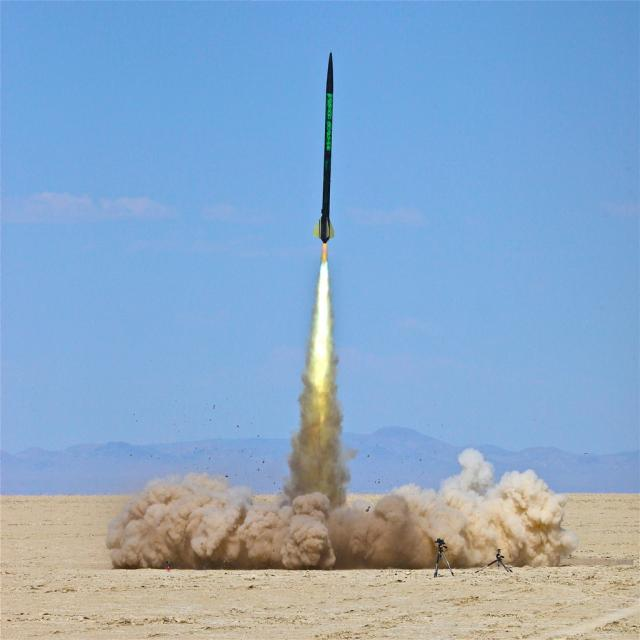rocket: (303, 48, 343, 412)
